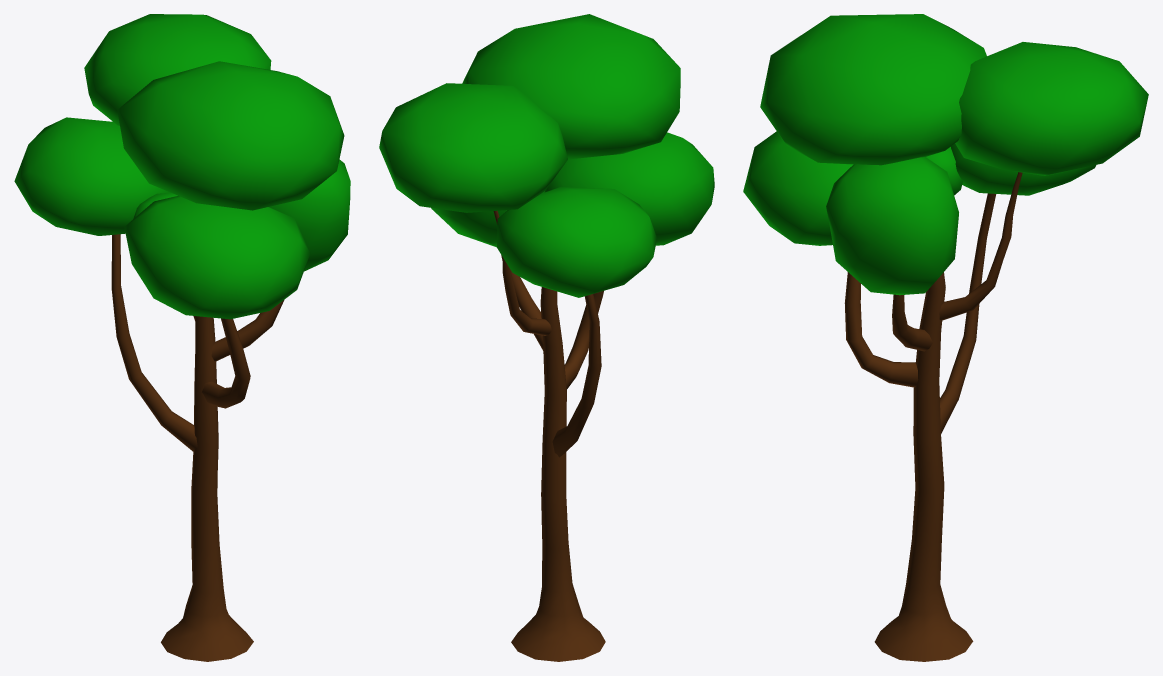
File: Tree_2.fbx
The picture shows the model from 3 angles, left to right: view 1: azimuth 30°, elevation 25°; view 2: azimuth 150°, elevation 25°; view 3: azimuth 270°, elevation 25°; orthographic projection. The views are drawn at different scales.
Parts seen in each view (by area): view 1: Tree_B; view 2: Tree_B; view 3: Tree_B.
Boxes of the visible parts, bbox=[...] form: Tree_B: bbox=[14, 14, 350, 661]; Tree_B: bbox=[379, 14, 714, 661]; Tree_B: bbox=[743, 14, 1148, 661].
Size of the model in its own units: 48.78 by 62 by 105.
